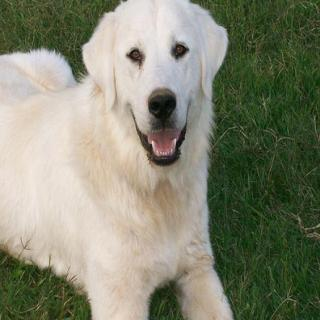dog: (77, 0, 236, 173)
nose: (143, 85, 179, 123)
